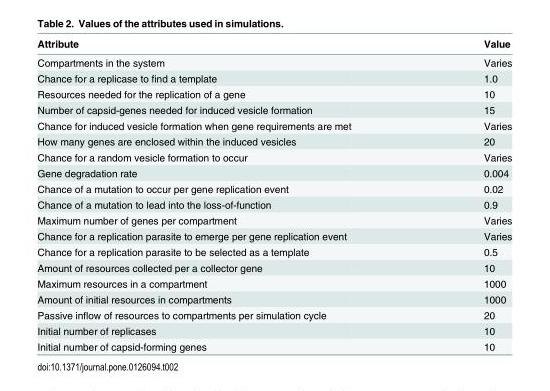table: (36, 37, 511, 351)
table column: (36, 37, 416, 351), (416, 37, 511, 351)
table column header: (36, 37, 511, 52)
table row: (36, 52, 511, 70), (36, 85, 511, 101), (36, 101, 511, 117), (36, 117, 511, 133), (36, 148, 511, 164), (36, 164, 511, 180), (36, 180, 511, 196), (36, 196, 511, 212), (36, 227, 511, 243), (36, 243, 511, 259), (36, 259, 511, 275), (36, 290, 511, 306), (36, 306, 511, 322), (36, 322, 511, 338), (36, 37, 511, 52), (36, 70, 511, 85), (36, 133, 511, 148), (36, 212, 511, 227), (36, 275, 511, 290), (36, 338, 511, 351)
